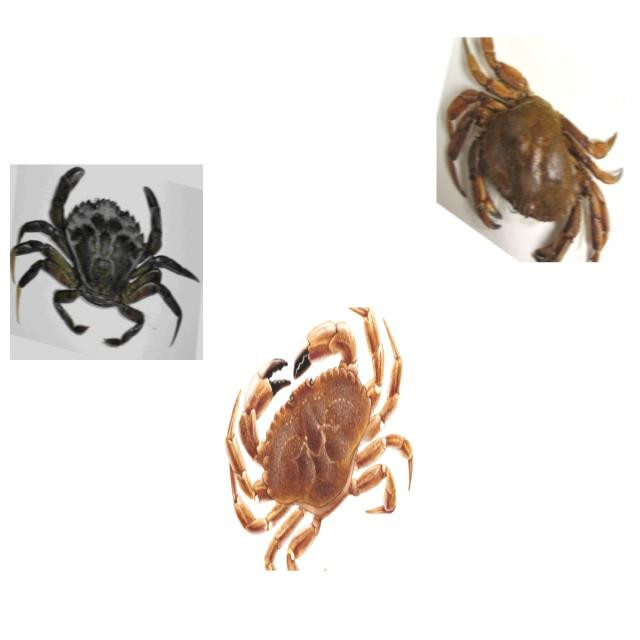egc: (10, 167, 203, 363)
jonah_crab: (224, 304, 419, 569)
rock_crab: (434, 32, 633, 265)
